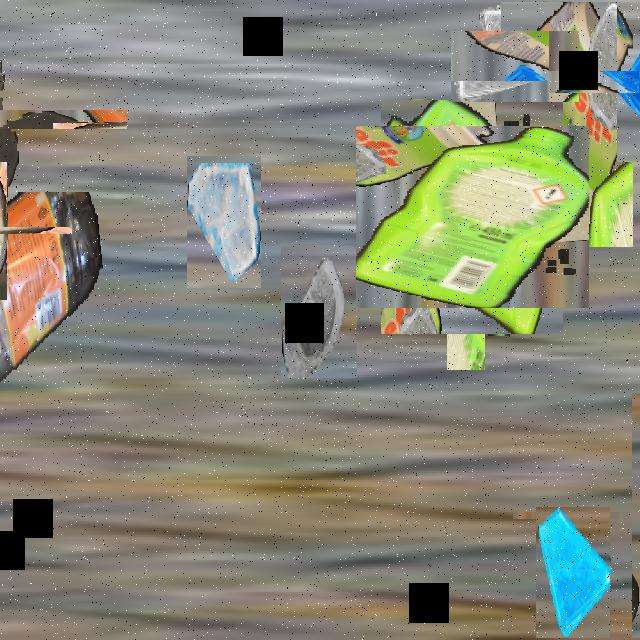glass: (281, 244, 357, 378), (465, 16, 565, 116), (187, 156, 261, 288), (536, 507, 610, 638), (582, 36, 640, 127)
plastic: (368, 113, 576, 321), (501, 2, 633, 247), (0, 192, 105, 441), (0, 55, 73, 182), (572, 452, 640, 578)
wood: (447, 238, 485, 370), (0, 194, 39, 267)
